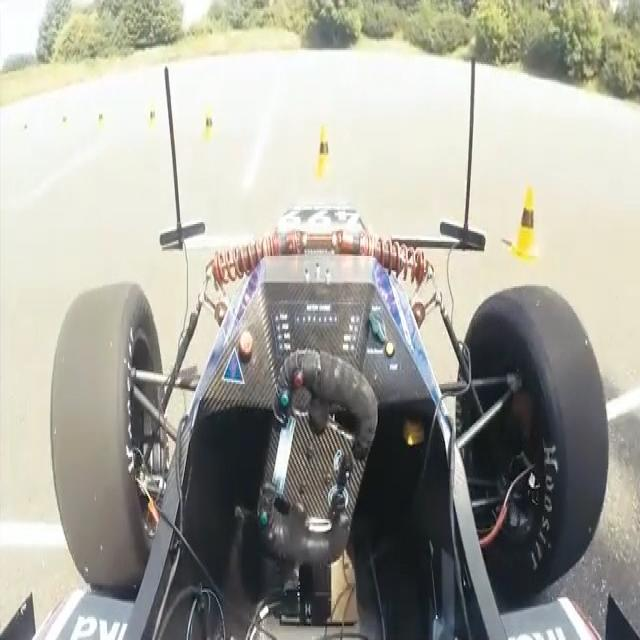yellow_cone: (510, 185, 540, 261), (314, 124, 336, 182)
